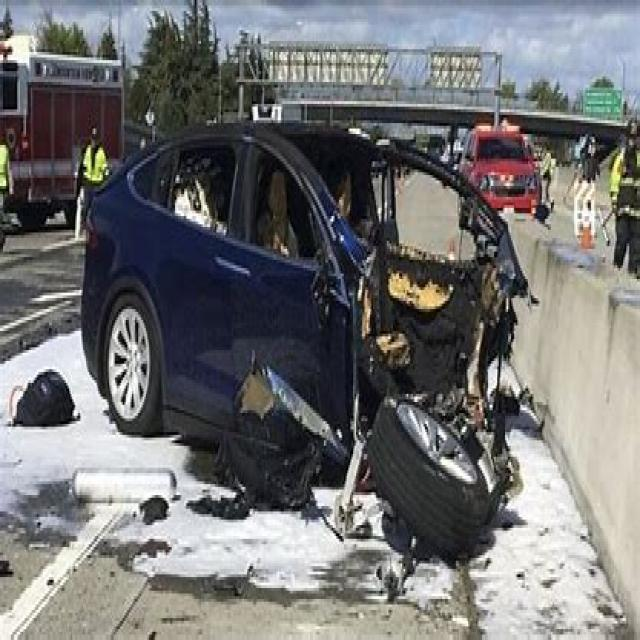Accident: (248, 108, 579, 618)
